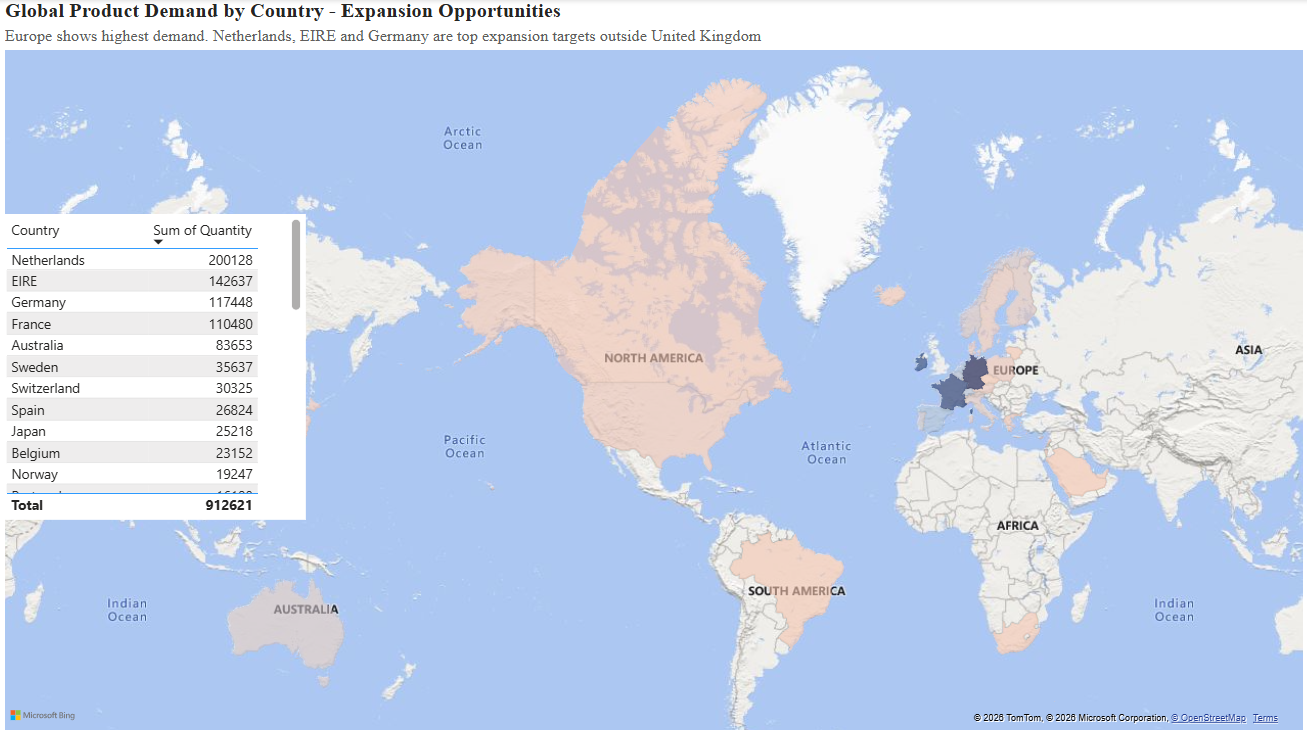

Layout of this report page (visuals, bound fields, positions):
{"tool":"powerbi","page":{"name":"Page 4","canvas":[1280,720],"ordinal":3},"visuals":[{"type":"filledMap","title":"Global Product Demand by Country - Expansion Opportunities","fields":{"Category":["Online Retail.Country"]},"box":[0,0,1280.3,720.2],"z":0},{"type":"tableEx","fields":{"Values":["Online Retail.Country","Sum(Online Retail.Quantity)"]},"box":[0,209.9,299.1,299.1],"z":1000}]}

Visuals, with their boxes in screenshot pixels (x1, y1, x2, y2), scaled from the page's 1280x720 canvas onto the 1307x733 screenshot:
"Global Product Demand by Country - Expansion Opportunities" filledMap: detection(0, 0, 1306, 732)
tableEx - Online Retail.Country x Sum(Online Retail.Quantity): detection(0, 214, 305, 518)
